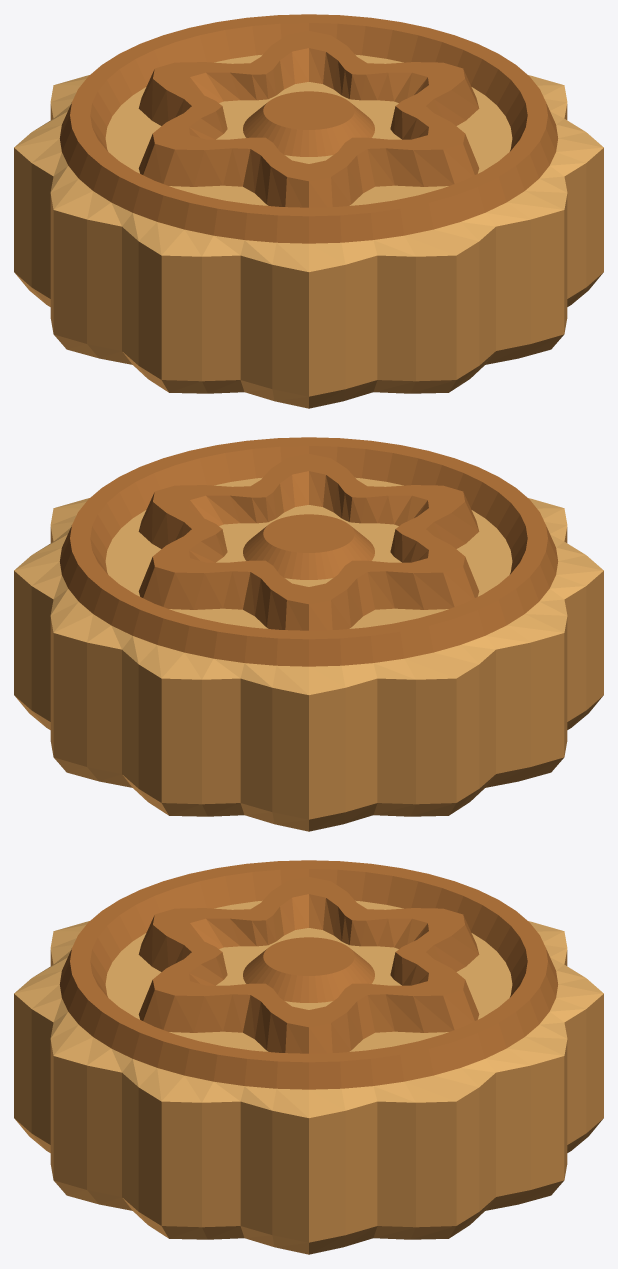
The picture shows the model from 3 angles, top to bottom: view 1: azimuth 30°, elevation 25°; view 2: azimuth 150°, elevation 25°; view 3: azimuth 270°, elevation 25°; orthographic projection.
Parts seen in each view (by area): view 1: Integral_PetalEdged_EmbossedMooncake; view 2: Integral_PetalEdged_EmbossedMooncake; view 3: Integral_PetalEdged_EmbossedMooncake.
Part boxes in pixels (x1,y1,x2,y2): Integral_PetalEdged_EmbossedMooncake: [14, 14, 603, 408]; Integral_PetalEdged_EmbossedMooncake: [14, 437, 603, 831]; Integral_PetalEdged_EmbossedMooncake: [14, 860, 603, 1254].
Size of the model in its own units: 0.116 by 0.04 by 0.116.
